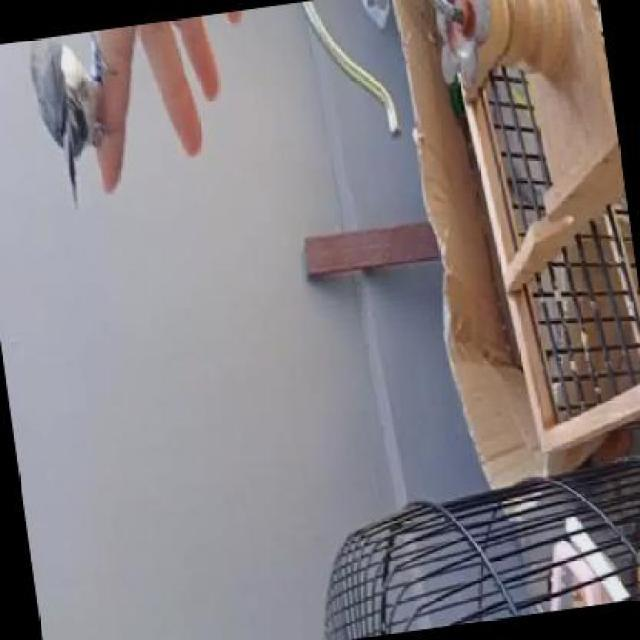Bird: (10, 25, 146, 218)
